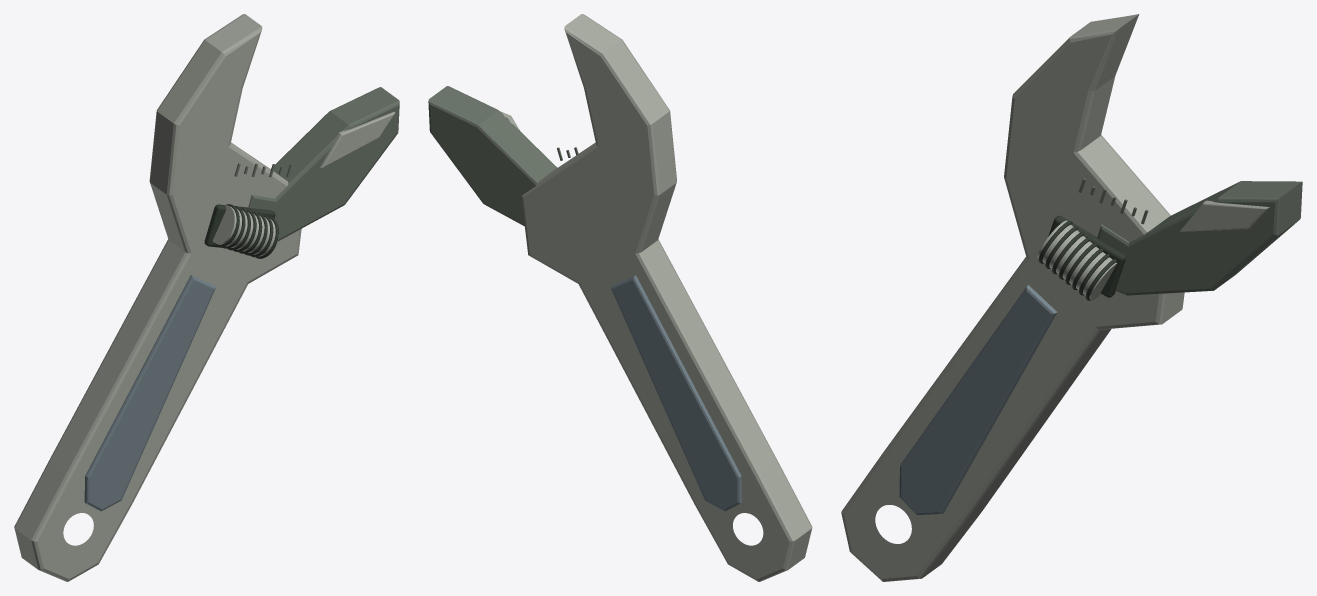
The model's file is plant-spanner.glb.
3 views of the same model, side by side, from view 1: azimuth 30°, elevation 25°; view 2: azimuth 150°, elevation 25°; view 3: azimuth 330°, elevation 25° (orthographic). The views are drawn at different scales.
Visible parts, largest first — view 1: plant-spanner; view 2: plant-spanner; view 3: plant-spanner.
Boxes of the visible parts, x1=… form: plant-spanner: x1=14, y1=14, x2=399, y2=581; plant-spanner: x1=428, y1=14, x2=812, y2=581; plant-spanner: x1=841, y1=14, x2=1302, y2=581.
Bounding box in the file's own units: 1.4 × 1.85 × 0.2615.
